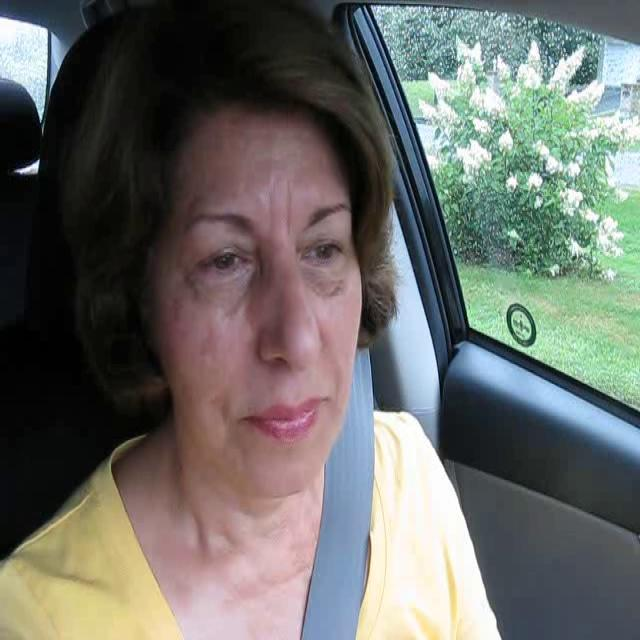close: (240, 396, 326, 442)
